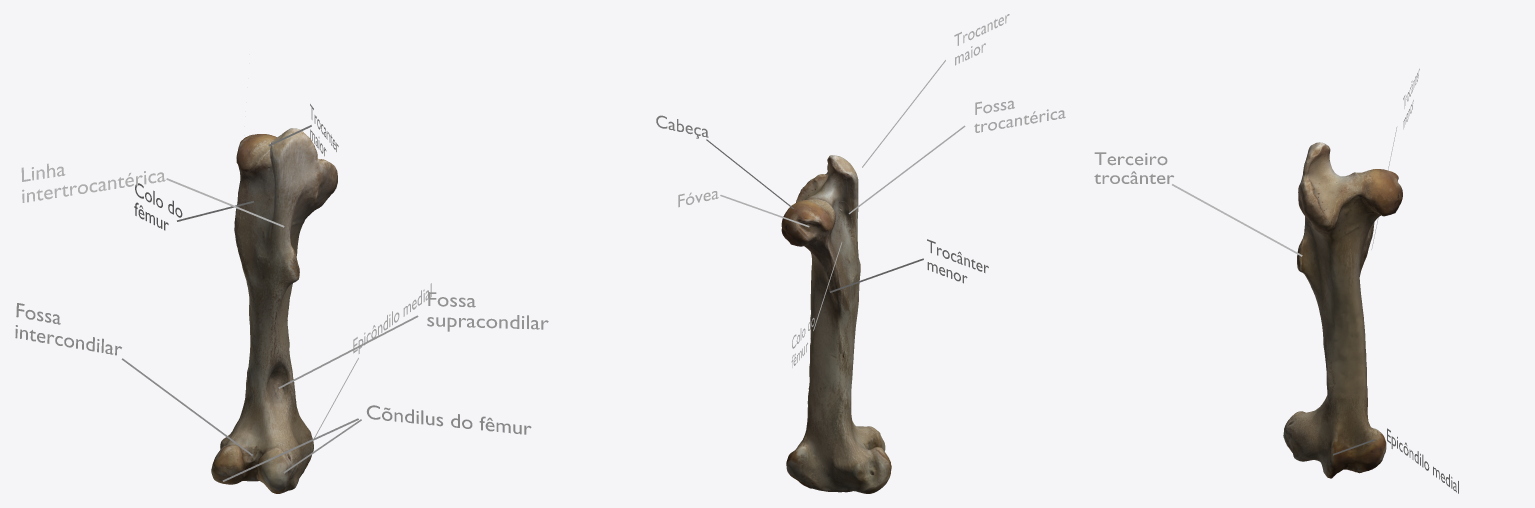
Rendered from Femur_modeloFinal1-aprovação.glb.
3 views of the same model, side by side, from view 1: azimuth 30°, elevation 25°; view 2: azimuth 150°, elevation 25°; view 3: azimuth 270°, elevation 25° (orthographic). The views are drawn at different scales.
Parts seen in each view (by area): view 1: Mesh_0, Texto.017, Texto.005, Texto.004, Texto.016; view 2: Mesh_0, Texto.009; view 3: Mesh_0, Texto.001, Texto.020.
Part boxes in pixels (box(x1,y1,x2,y2)): Mesh_0: box(211, 128, 337, 493); Texto.017: box(21, 163, 165, 202); Texto.005: box(427, 292, 548, 331); Texto.004: box(366, 405, 531, 434); Texto.016: box(15, 303, 121, 355); Mesh_0: box(781, 155, 891, 493); Texto.009: box(974, 100, 1065, 132); Mesh_0: box(1283, 142, 1402, 478); Texto.001: box(1094, 152, 1173, 183); Texto.020: box(1387, 428, 1458, 493).
Size of the model in its own units: 2.63 by 2.42 by 2.22.
1 material, 1 textured.
